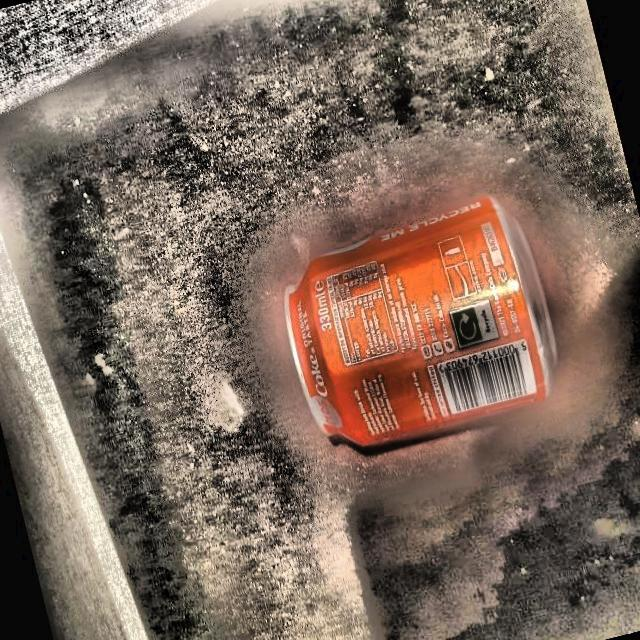coke-can: (273, 206, 559, 453)
